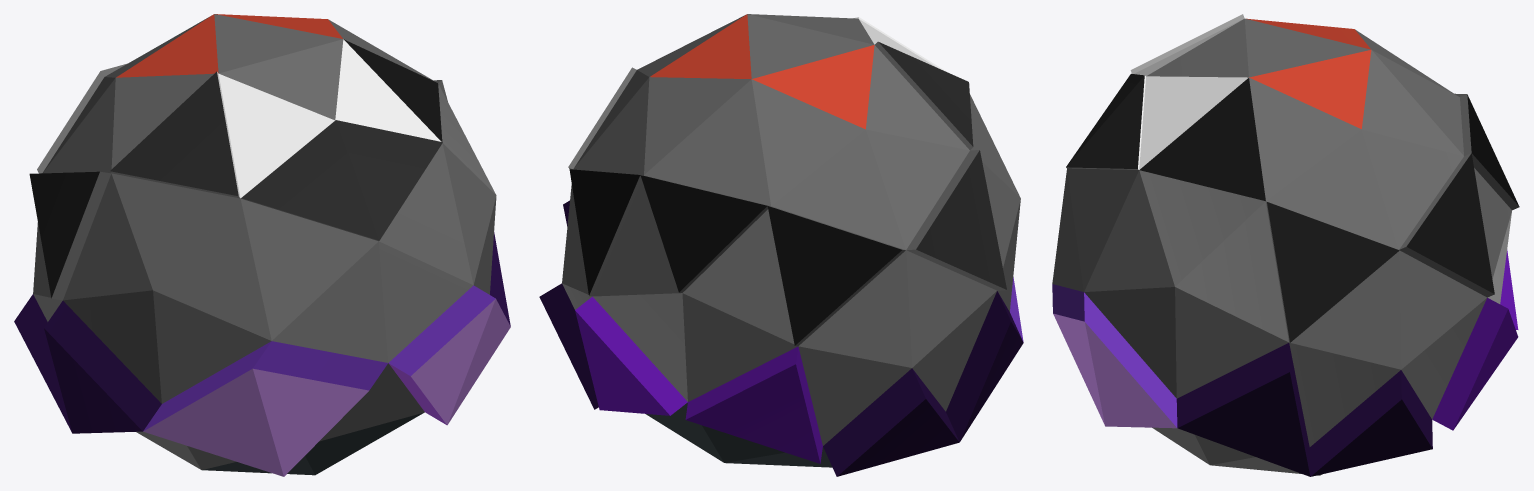
The model's file is SuperDeadlyBomber.fbx.
The picture shows the model from 3 angles, left to right: view 1: azimuth 30°, elevation 25°; view 2: azimuth 150°, elevation 25°; view 3: azimuth 270°, elevation 25°; orthographic projection.
Visible parts, largest first — view 1: Icosphere; view 2: Icosphere; view 3: Icosphere.
Boxes of the visible parts, x1=… form: Icosphere: x1=14, y1=14, x2=510, y2=476; Icosphere: x1=539, y1=14, x2=1023, y2=476; Icosphere: x1=1052, y1=14, x2=1519, y2=476.
Size of the model in its own units: 219 by 189 by 201.
